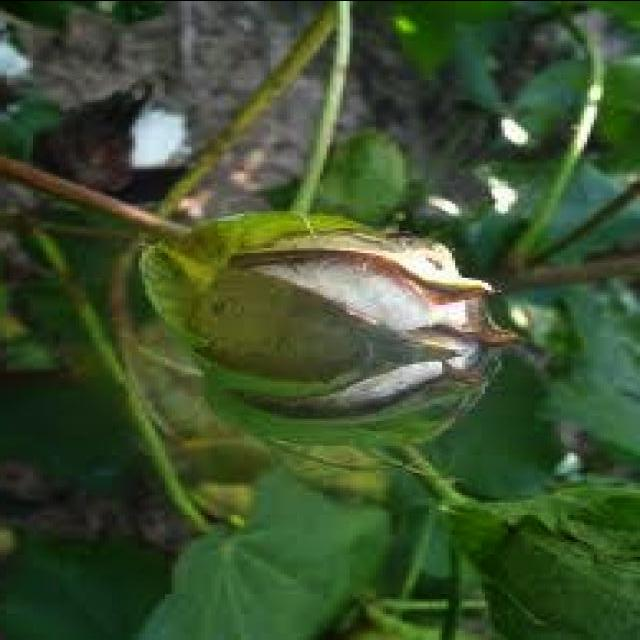Early Boll: (449, 461, 640, 640)
Split Cotton Boll: (173, 193, 525, 456)
